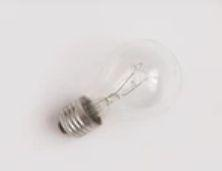light bulb: (55, 38, 185, 140)
